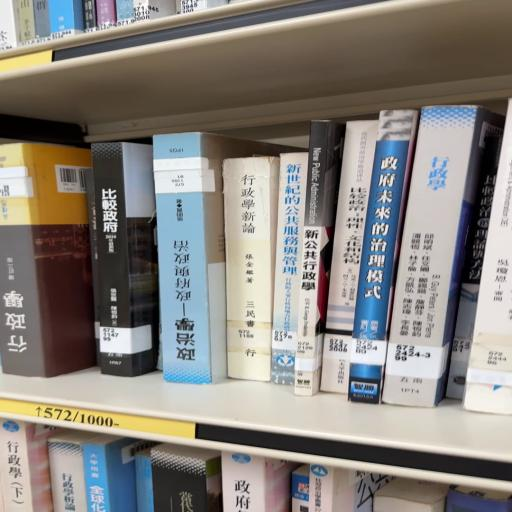reverse: (154, 133, 294, 385)
